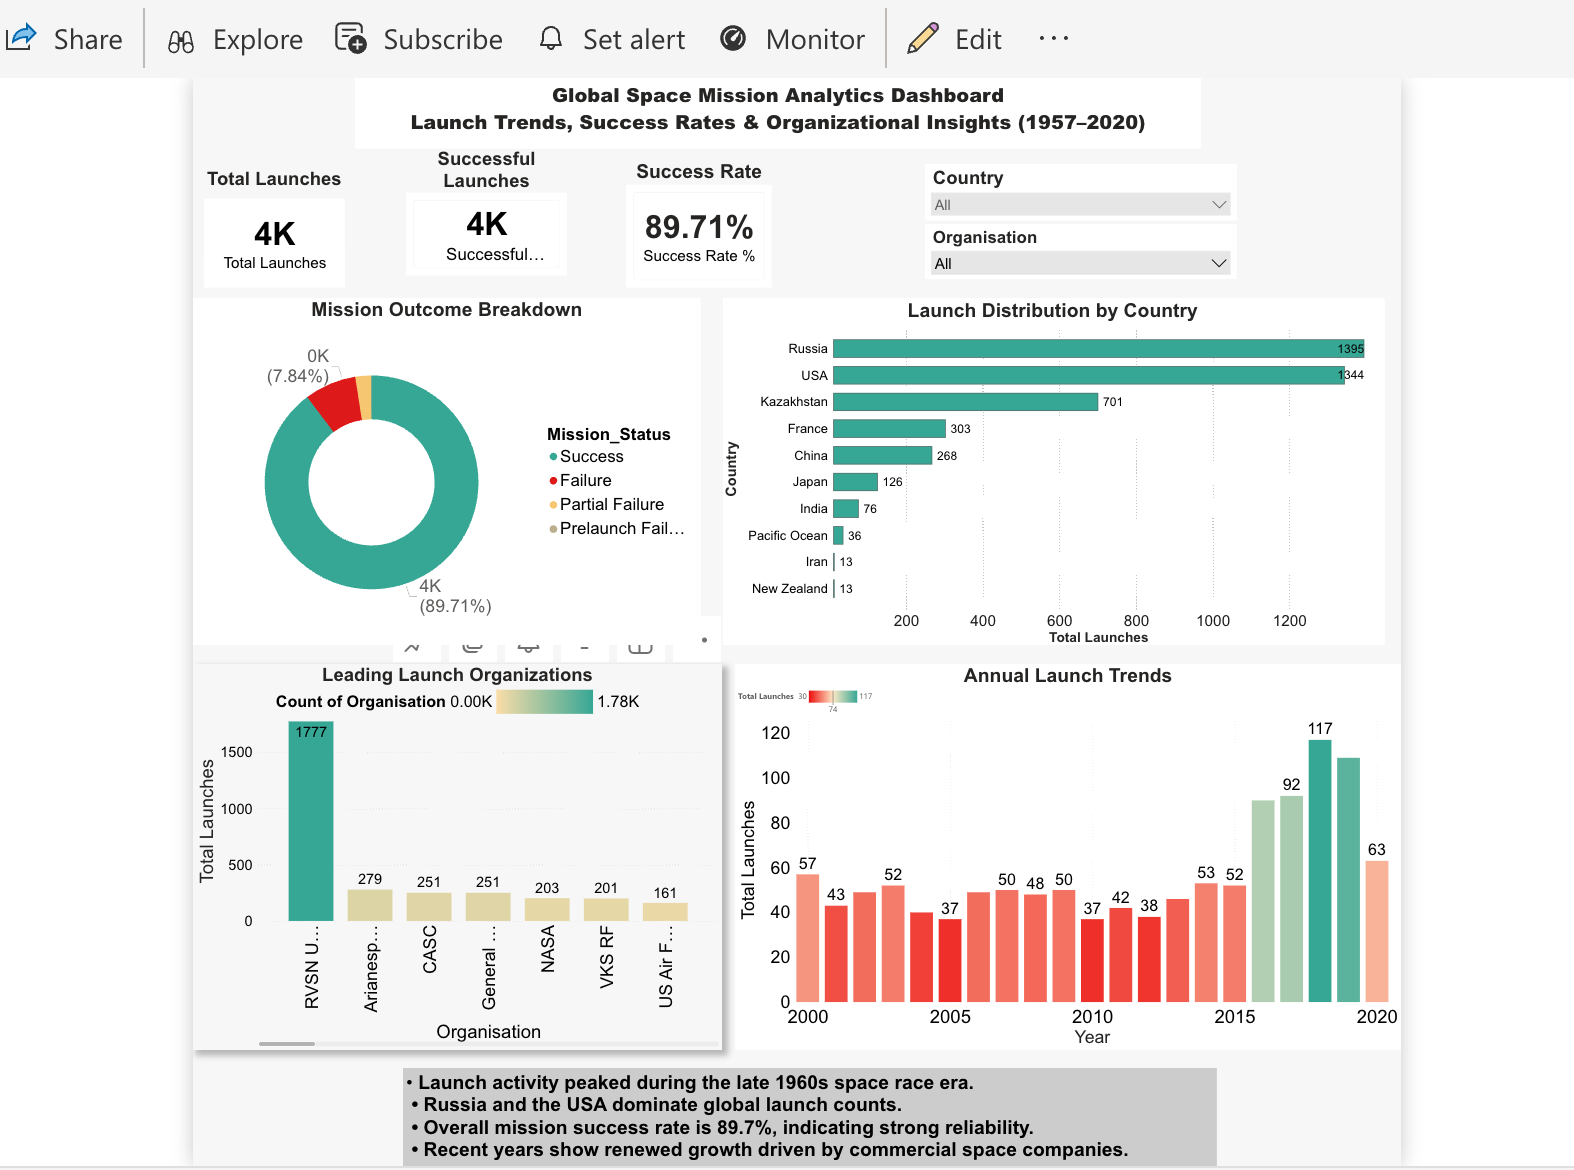

This screenshot's page, from the dashboard's own definition file:
{"tool":"powerbi","page":{"name":"Page 1","canvas":[2000,1800],"ordinal":0},"visuals":[{"type":"cardVisual","title":"Total Launches","fields":{"Data":["mission_launches.Total Launches"]},"box":[0,148.8,269.3,216.1],"z":0},{"type":"cardVisual","title":"Successful Launches","fields":{"Data":["mission_launches.Successful Launches"]},"box":[347.2,116.9,276.4,216.1],"z":1000},{"type":"cardVisual","title":"Success Rate","fields":{"Data":["mission_launches.Success Rate %"]},"box":[712.2,134.6,251.6,216.1],"z":2000},{"type":"clusteredColumnChart","title":"Annual Launch Trends ","fields":{"Y":["mission_launches.Total Launches"],"Category":["mission_launches.Date.Variation.Date Hierarchy.Year"]},"box":[896.5,970.9,1102,637.8],"z":3000},{"type":"clusteredBarChart","title":"Launch Distribution by Country","fields":{"Y":["mission_launches.Total Launches"],"Category":["mission_launches.Country"]},"box":[875.2,365,1094.9,574],"z":4000},{"type":"clusteredColumnChart","title":"Leading Launch Organizations","fields":{"Category":["mission_launches.Organisation"],"Y":["mission_launches.Total Launches"]},"box":[0,970.9,875.2,637.8],"z":5000},{"type":"donutChart","title":"Mission Outcome Breakdown","fields":{"Category":["mission_launches.Mission_Status"],"Y":["mission_launches.Total Launches"]},"box":[0,365,839.8,574],"z":6000},{"type":"textbox","box":[347.2,1637,1346.5,163],"z":7000},{"type":"textbox","box":[269.3,0,1399.6,116.9],"z":8000},{"type":"slicer","fields":{"Values":["mission_launches.Country"]},"box":[1209.8,143.3,515.4,93.7],"z":9000},{"type":"slicer","fields":{"Values":["mission_launches.Organisation"]},"box":[1209.8,242.5,515.4,90.9],"z":10000}]}

Visuals, with their boxes on the page's 2000x1800 design canvas (x1, y1, x2, y2). These are canvas units, not pixel positions in the 1574x1170 screenshot, which may show the page scaled, cropped or inside an application window:
"Total Launches" cardVisual: crop(0, 149, 269, 365)
"Successful Launches" cardVisual: crop(347, 117, 624, 333)
"Success Rate" cardVisual: crop(712, 135, 964, 351)
"Annual Launch Trends " clusteredColumnChart: crop(896, 971, 1998, 1609)
"Launch Distribution by Country" clusteredBarChart: crop(875, 365, 1970, 939)
"Leading Launch Organizations" clusteredColumnChart: crop(0, 971, 875, 1609)
"Mission Outcome Breakdown" donutChart: crop(0, 365, 840, 939)
textbox: crop(347, 1637, 1694, 1800)
textbox: crop(269, 0, 1669, 117)
slicer - mission_launches.Country: crop(1210, 143, 1725, 237)
slicer - mission_launches.Organisation: crop(1210, 242, 1725, 333)
